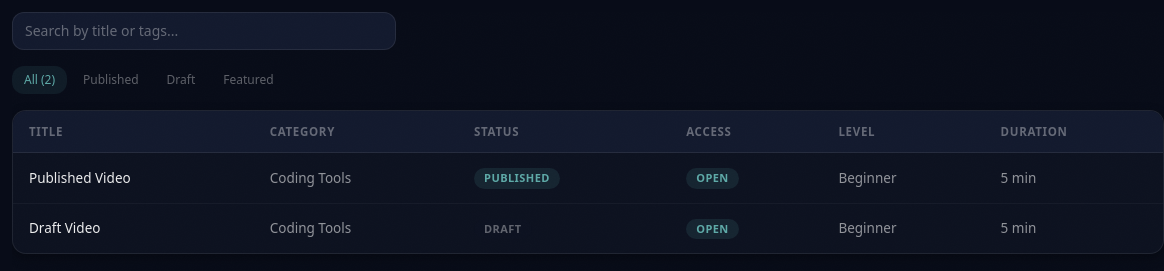
Test case: AdminLibraryList › filters by search text
In the field with placeholder "Search by title or tags...": x=204, y=31 left=12, top=12, right=396, bottom=50, type "Draft"
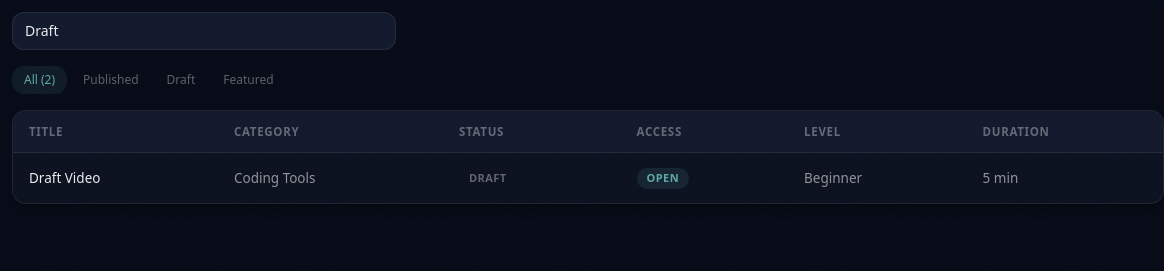
Check: the text "Draft Video" is shown, box left=29, top=169, right=100, bottom=187
Check: the text "Published Video" is gone
